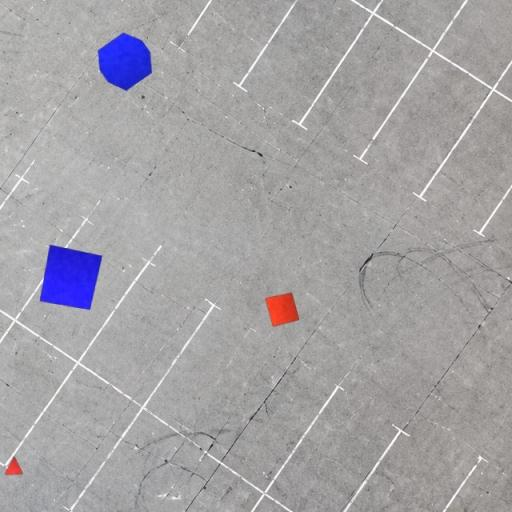BLUE_SQUARE: (39, 244, 103, 311)
RED_SQUARE: (264, 292, 300, 327)
